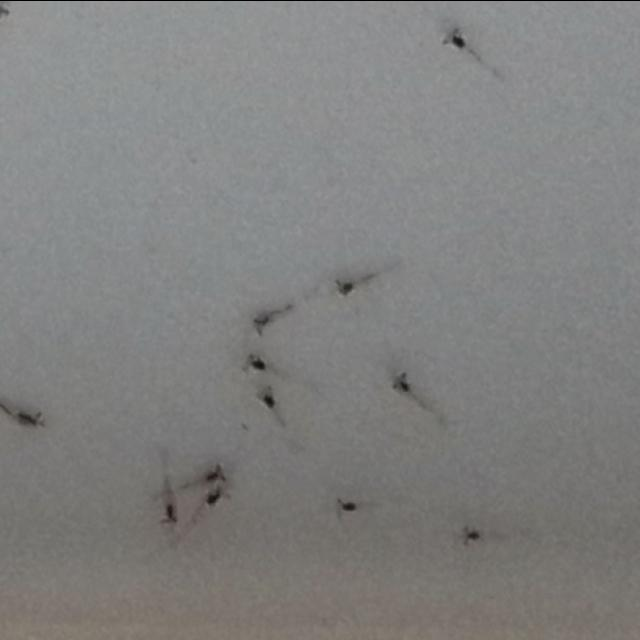shrimp-seed: (252, 301, 293, 334), (2, 400, 46, 430), (438, 23, 470, 52), (200, 483, 228, 510), (200, 460, 226, 488), (156, 498, 180, 528), (332, 273, 358, 299), (333, 494, 358, 520), (252, 384, 278, 409), (388, 369, 411, 394), (457, 526, 483, 548), (242, 350, 268, 372)
